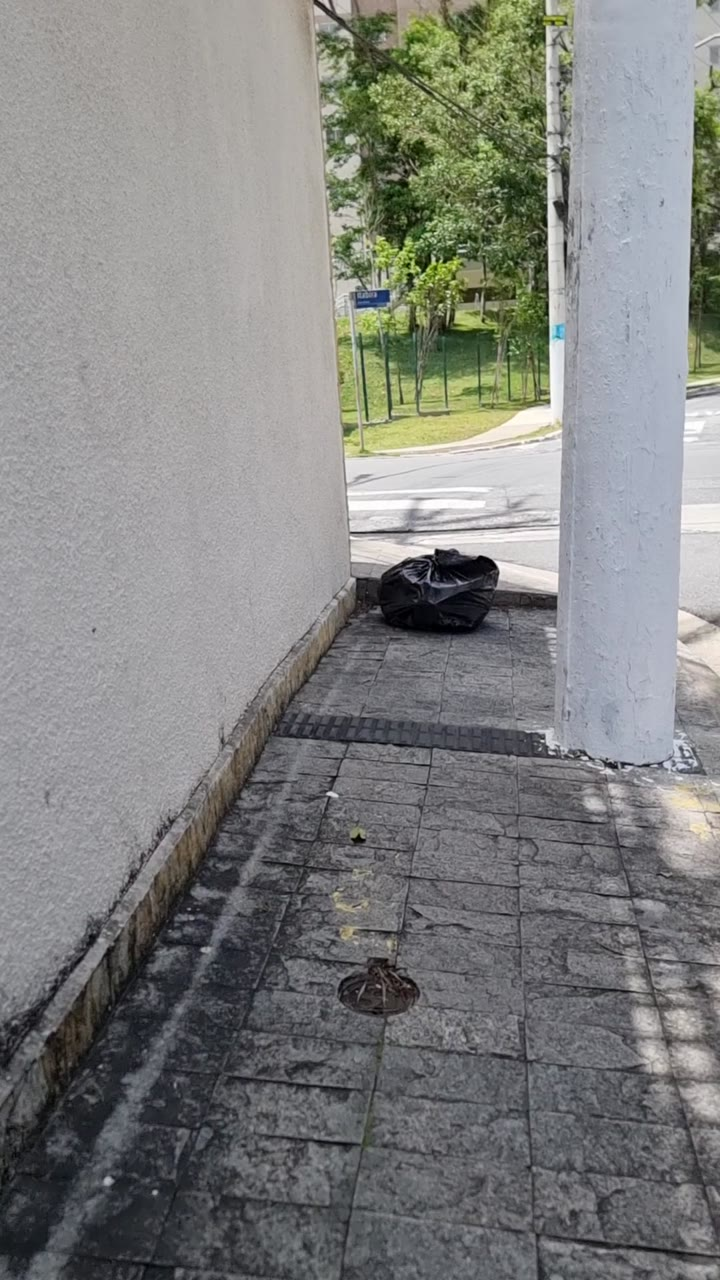obstaculo: (562, 0, 691, 768), (379, 549, 499, 633)
